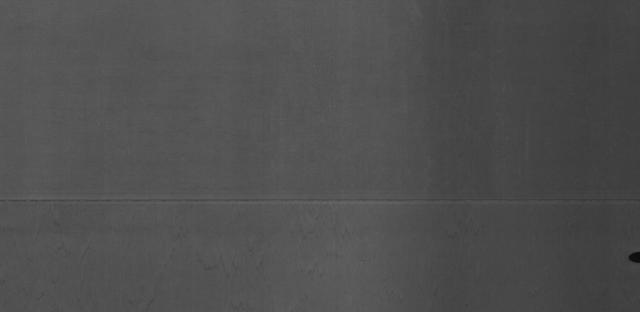punching_hole: (627, 248, 640, 265)
welding_line: (1, 188, 638, 210)
